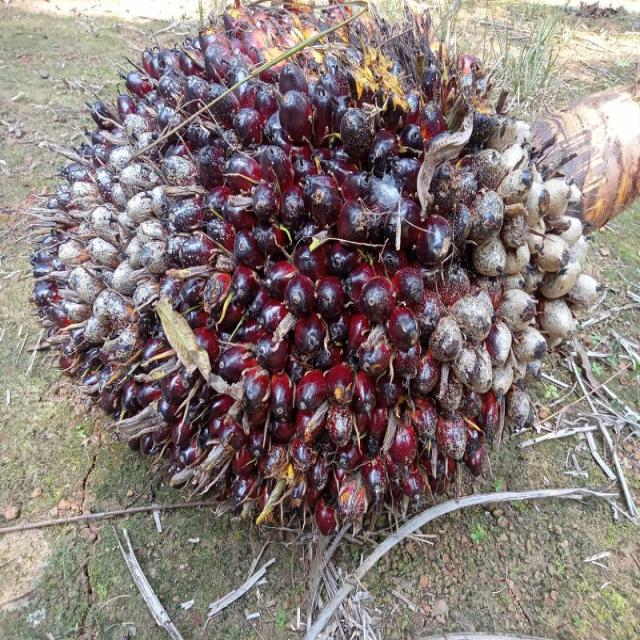fraksi 1: (31, 0, 596, 540)
